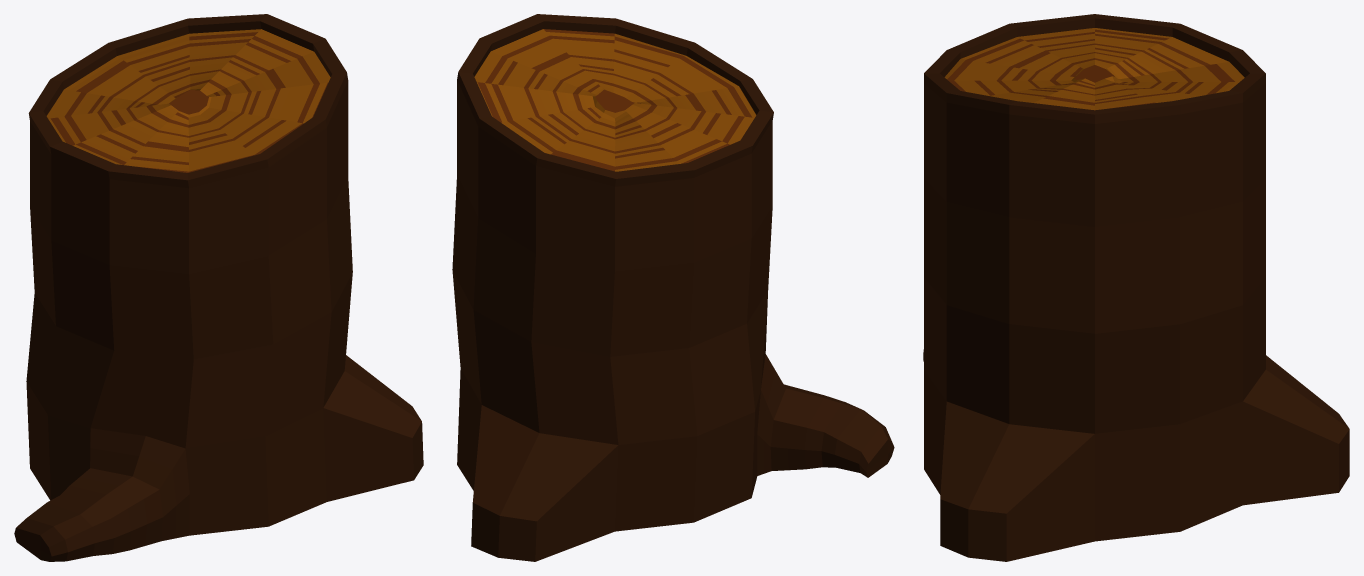
Rendered from HalfTree.fbx.
The picture shows the model from 3 angles, left to right: view 1: azimuth 30°, elevation 25°; view 2: azimuth 150°, elevation 25°; view 3: azimuth 270°, elevation 25°; orthographic projection. The views are drawn at different scales.
Visible parts, largest first — view 1: Cylinder.011; view 2: Cylinder.011; view 3: Cylinder.011.
Part boxes in pixels (left/top/right/bottom): Cylinder.011: left=14, top=14, right=423, bottom=561; Cylinder.011: left=452, top=14, right=894, bottom=561; Cylinder.011: left=923, top=14, right=1349, bottom=561.
Bounding box in the file's own units: 146 × 141 × 126.
